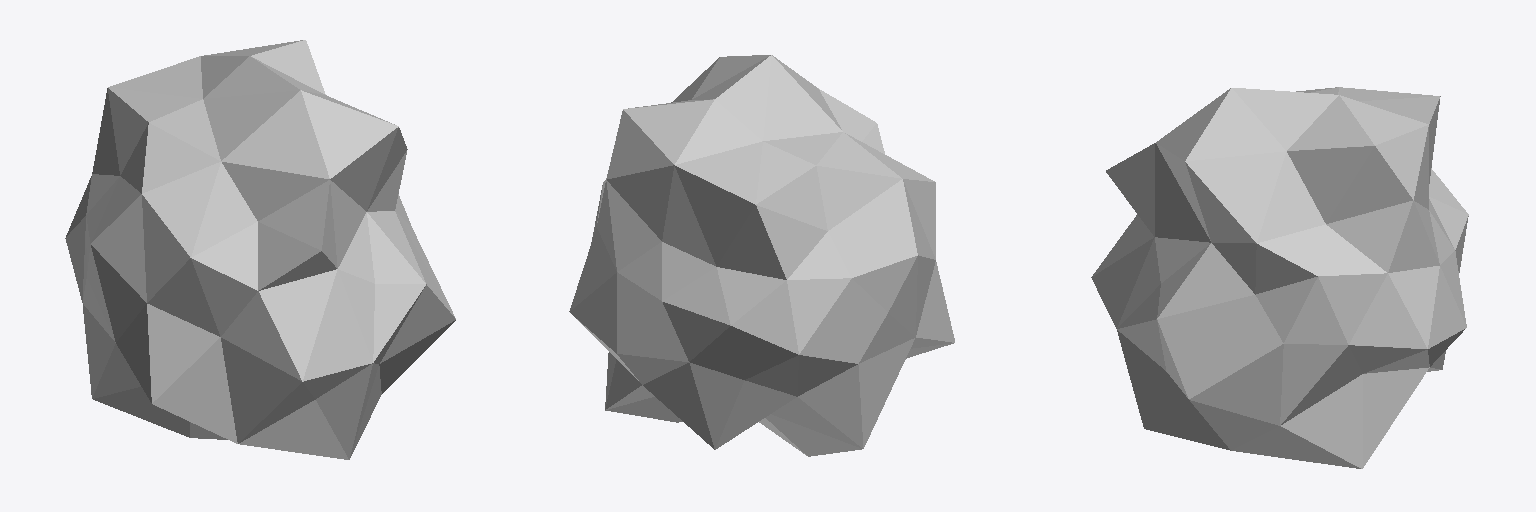
File: asteroidB.obj
3 renders of one model, left to right at view 1: azimuth 30°, elevation 25°; view 2: azimuth 150°, elevation 25°; view 3: azimuth 270°, elevation 25°, orthographic.
Visible parts, largest first — view 1: Meteor_2_Cube.014; view 2: Meteor_2_Cube.014; view 3: Meteor_2_Cube.014.
Boxes of the visible parts, x1=… form: Meteor_2_Cube.014: x1=65, y1=40, x2=455, y2=459; Meteor_2_Cube.014: x1=569, y1=55, x2=954, y2=456; Meteor_2_Cube.014: x1=1091, y1=87, x2=1468, y2=468.
Bounding box in the file's own units: 1.12 × 1.21 × 1.16.